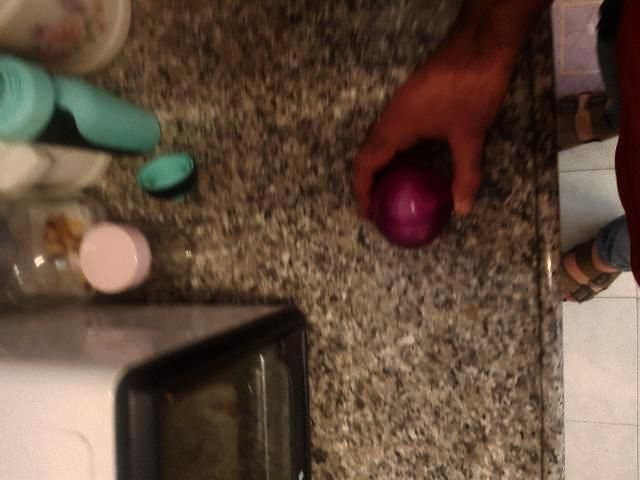onion: (231, 356, 316, 451)
